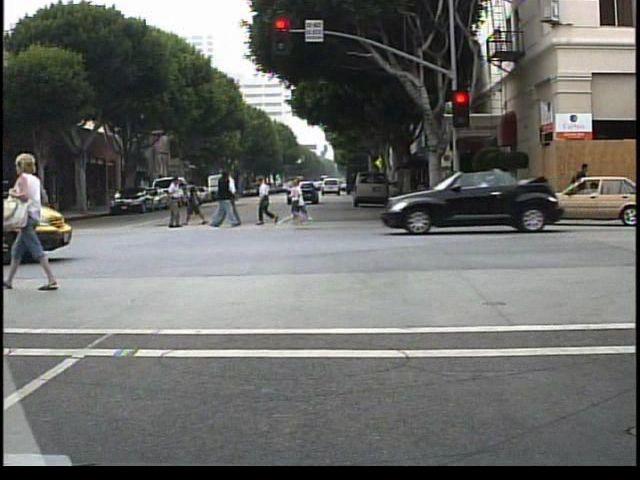person: (19, 148, 75, 294), (11, 192, 46, 240), (213, 169, 238, 233), (254, 175, 283, 229), (159, 174, 186, 231), (222, 167, 247, 228), (570, 158, 592, 217), (184, 178, 208, 230), (14, 182, 36, 236)
